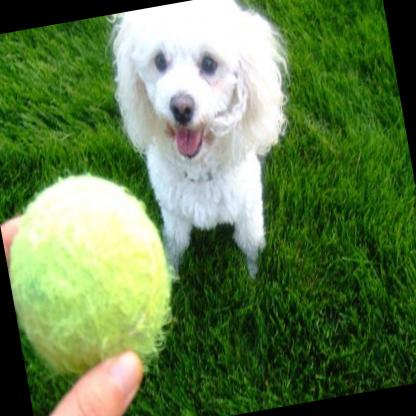miniature_poodle: (97, 0, 319, 292)
